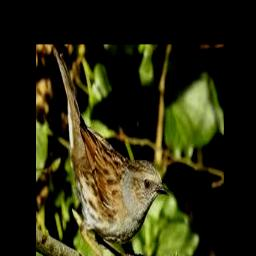Sparrow: (54, 50, 169, 256)
